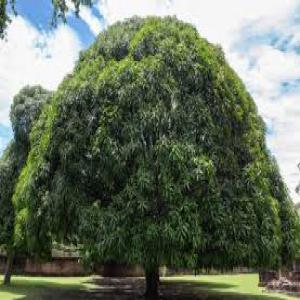Tree: (11, 5, 284, 288)
